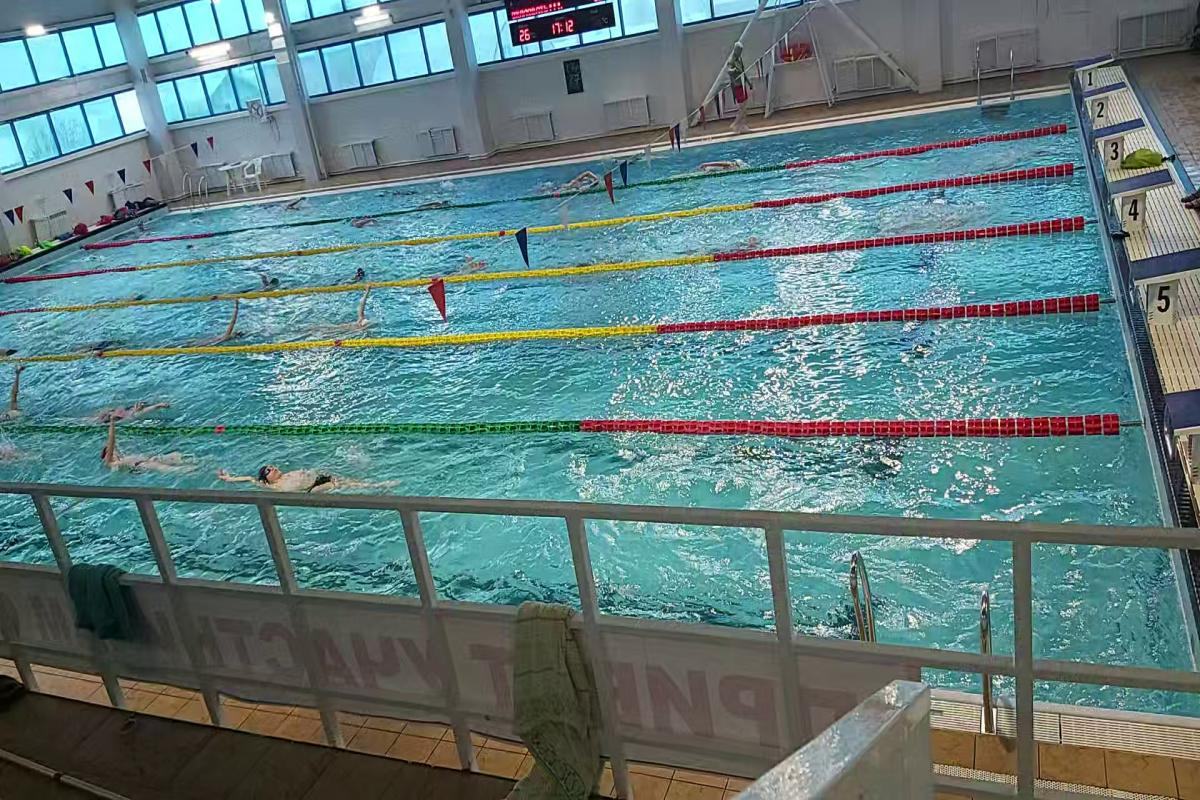swimmer: (218, 457, 389, 496), (92, 436, 201, 483), (94, 390, 174, 423), (200, 306, 254, 347), (334, 290, 380, 336), (455, 250, 494, 277), (247, 264, 287, 290), (346, 263, 374, 284)
